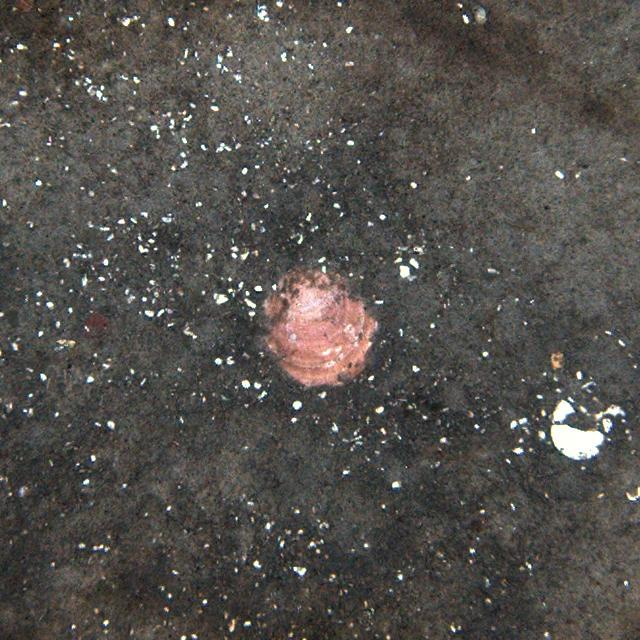scallop: (251, 257, 377, 386)
